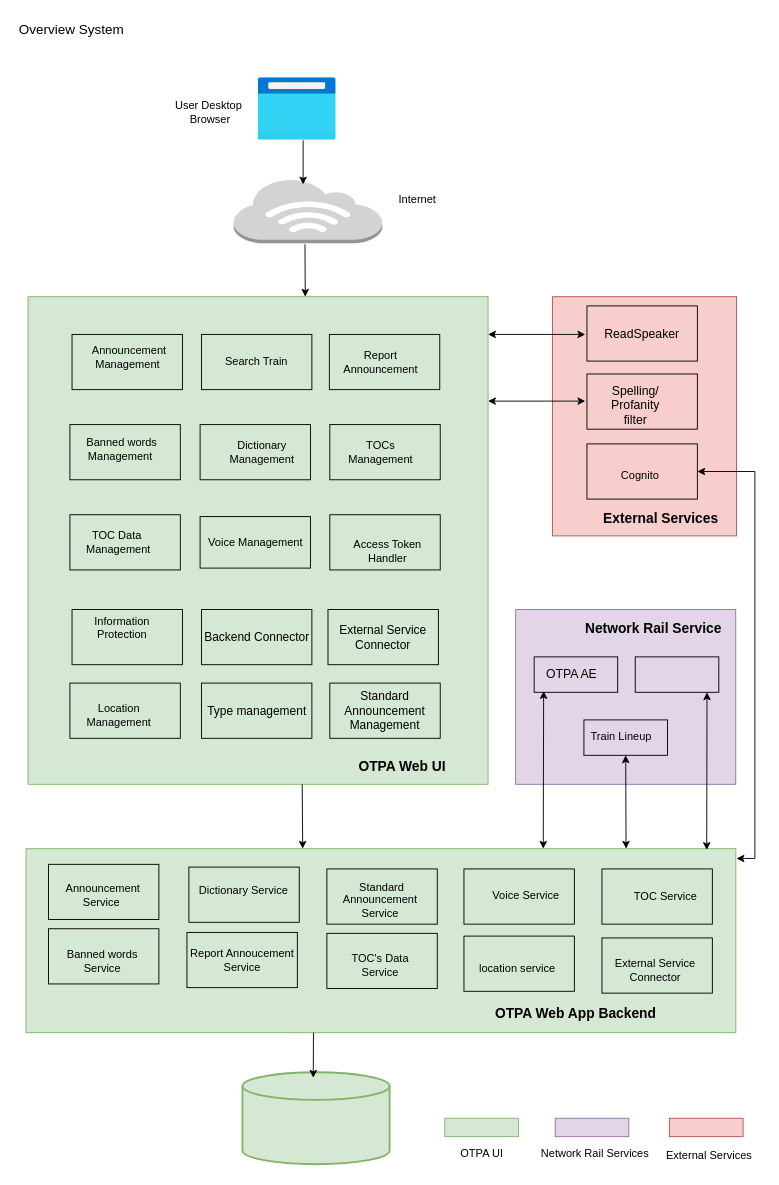
The diagram is 779 pixels wide and 1185 high, and some of its shapes have lost their labels. Each missing label, with the box of its shape:
Mail Server: (634, 656, 719, 692)
Oracle: (241, 1071, 390, 1165)
